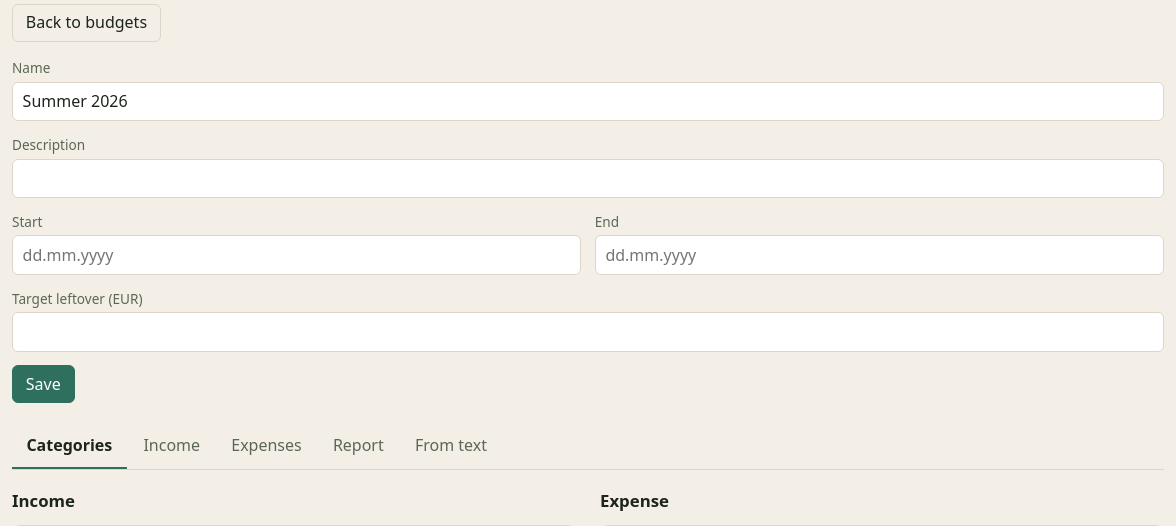
AC2: Panel names the open budget › AC2: Panel names the open budget
Click the button "From text".
click(451, 446)  # box [400, 423, 501, 469]
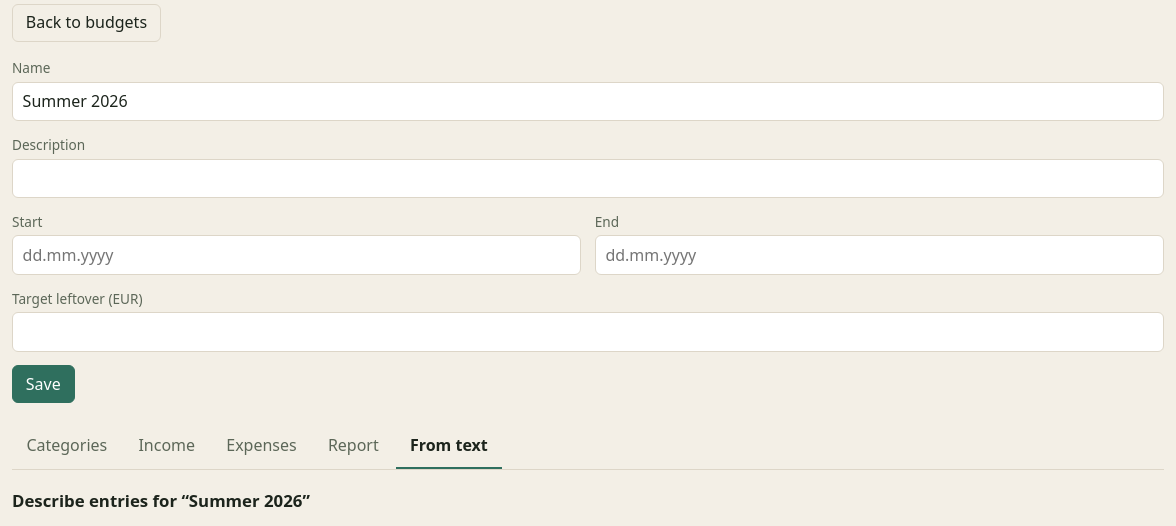
Now the heading "Describe entries for “Summer 2026”" is shown, box [12, 489, 310, 512]
